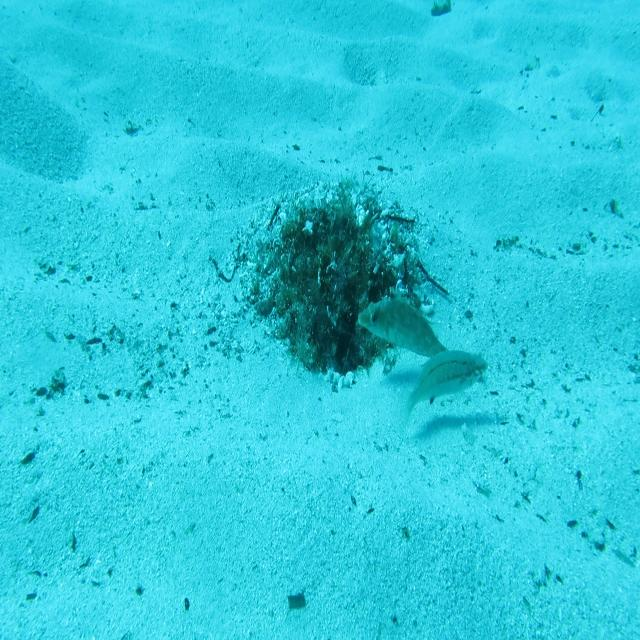MAF: (356, 285, 451, 361)
core_nest: (306, 216, 355, 272)
female: (394, 346, 490, 438)
nest: (225, 155, 448, 409)
vegetation: (286, 589, 306, 611), (431, 2, 454, 18)
